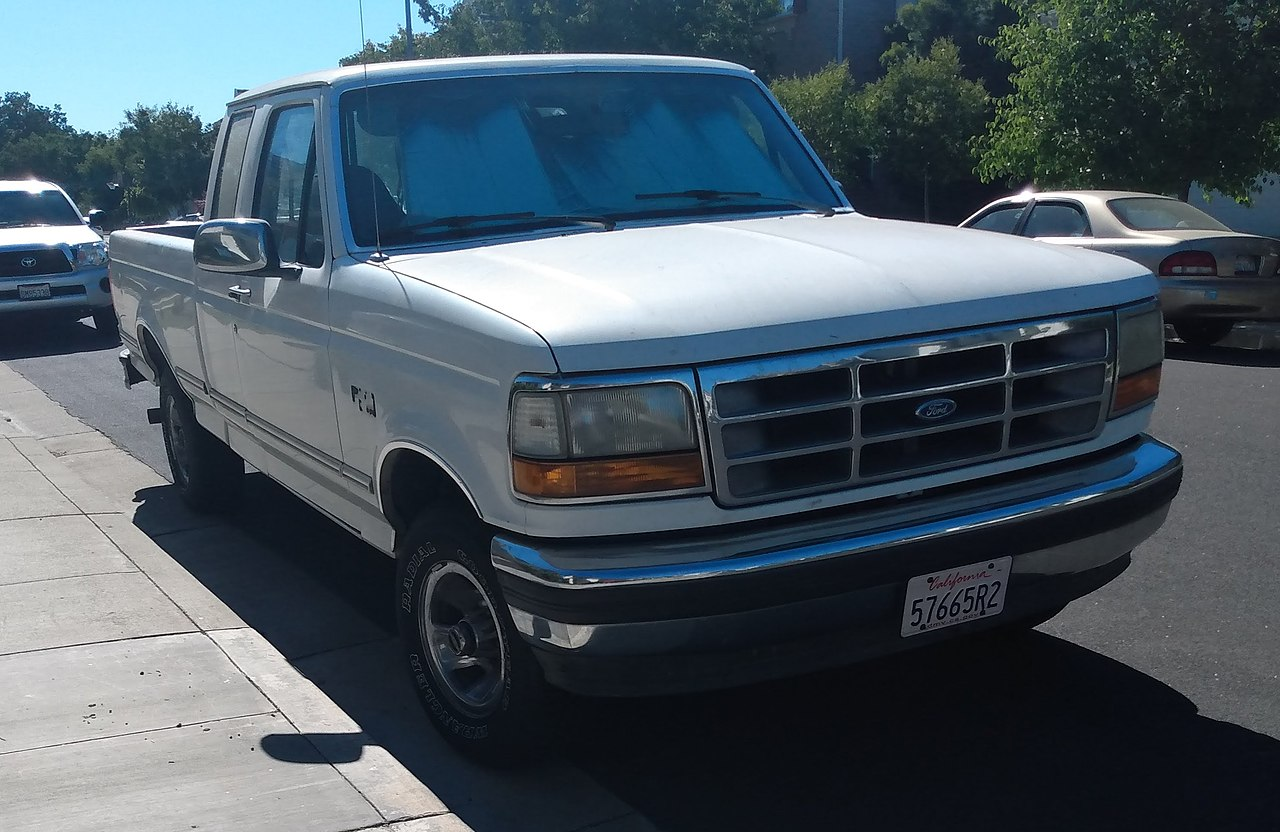plate: (899, 553, 1013, 641), (17, 283, 51, 300), (1234, 256, 1256, 273)
